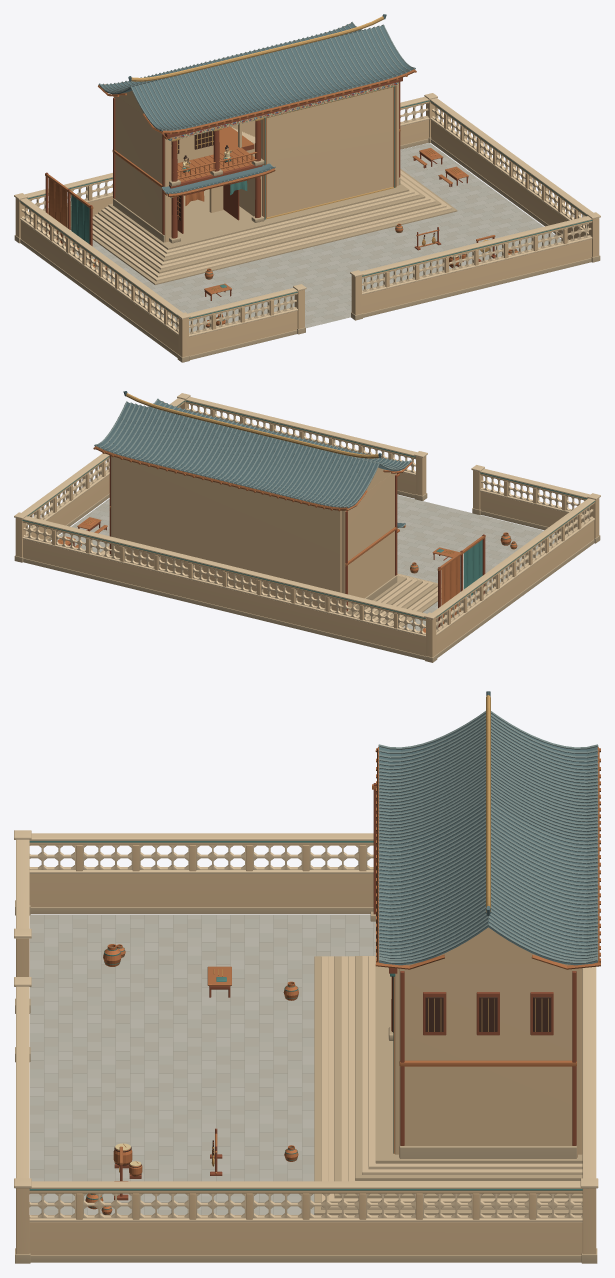
The model's file is music-pavilion.glb.
3 renders of one model, top to bottom at view 1: azimuth 30°, elevation 25°; view 2: azimuth 150°, elevation 25°; view 3: azimuth 270°, elevation 25°, orthographic. The views are drawn at different scales.
Visible parts, largest first — view 1: court-paving--court-limestone-0, architecture--plaster.001, courtyard-enclosure--plaster.001, courtyard-enclosure--stone-light.001, main-roof--tile.001, terraced-foundation--stone-light, terraced-foundation--stone, main-roof--tile-edge.001, courtyard-enclosure--stone, porch--wood.001, porch--wood-light.001, main-roof--wood-light.001 (+15 smaller); view 2: architecture--plaster.001, courtyard-enclosure--plaster.001, courtyard-enclosure--stone-light.001, main-roof--tile.001, court-paving--court-limestone-0, main-roof--tile-edge.001, courtyard-enclosure--stone, courtyard-enclosure--teal.001, terraced-foundation--stone-light, main-roof--wood-light.001, main-roof--ochre.001, terraced-foundation--stone (+5 smaller); view 3: court-paving--court-limestone-0, main-roof--tile-edge.001, courtyard-enclosure--plaster.001, architecture--plaster.001, courtyard-enclosure--stone-light.001, main-roof--tile.001, terraced-foundation--stone-light, terraced-foundation--stone, court-paving--court-fine-joints, courtyard-enclosure--stone, mural-frame--wood.001, mural-frame--stone.001 (+8 smaller).
Boxes of the visible parts, x1,y1,x2,y2 form: court-paving--court-limestone-0: [71, 143, 561, 332]; architecture--plaster.001: [113, 85, 398, 242]; courtyard-enclosure--plaster.001: [15, 100, 599, 357]; courtyard-enclosure--stone-light.001: [14, 93, 600, 336]; main-roof--tile.001: [99, 14, 413, 131]; terraced-foundation--stone-light: [92, 170, 451, 281]; terraced-foundation--stone: [92, 168, 457, 284]; main-roof--tile-edge.001: [98, 21, 415, 131]; courtyard-enclosure--stone: [14, 137, 600, 362]; porch--wood.001: [169, 120, 262, 238]; porch--wood-light.001: [163, 135, 257, 219]; main-roof--wood-light.001: [98, 23, 416, 134]; architecture--plaster.001: [111, 456, 396, 612]; courtyard-enclosure--plaster.001: [15, 400, 599, 657]; courtyard-enclosure--stone-light.001: [14, 393, 600, 637]; main-roof--tile.001: [96, 391, 410, 508]; court-paving--court-limestone-0: [51, 495, 557, 631]; main-roof--tile-edge.001: [94, 398, 411, 508]; courtyard-enclosure--stone: [14, 490, 600, 662]; courtyard-enclosure--teal.001: [22, 400, 595, 618]; terraced-foundation--stone-light: [101, 547, 441, 624]; main-roof--wood-light.001: [93, 400, 412, 511]; main-roof--ochre.001: [126, 393, 378, 458]; terraced-foundation--stone: [100, 545, 441, 626]; court-paving--court-limestone-0: [30, 915, 375, 1214]; main-roof--tile-edge.001: [378, 711, 598, 963]; courtyard-enclosure--plaster.001: [16, 842, 596, 1255]; architecture--plaster.001: [394, 964, 582, 1157]; courtyard-enclosure--stone-light.001: [14, 830, 598, 1222]; main-roof--tile.001: [379, 691, 597, 965]; terraced-foundation--stone-light: [321, 956, 582, 1209]; terraced-foundation--stone: [314, 956, 582, 1214]; court-paving--court-fine-joints: [30, 915, 375, 1214]; courtyard-enclosure--stone: [15, 900, 597, 1263]; mural-frame--wood.001: [400, 971, 576, 1145]; mural-frame--stone.001: [399, 1146, 576, 1158].
Size of the model in its own units: 46.98 by 17.83 by 32.78.
22 materials, 1 textured.
